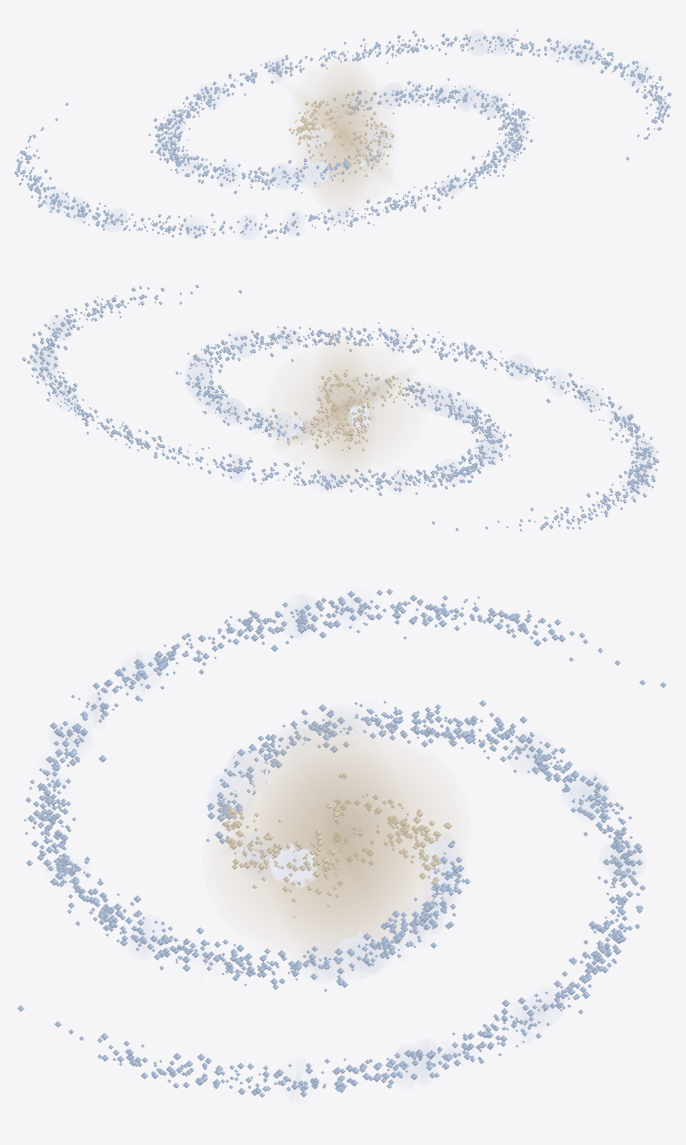
The picture shows the model from 3 angles, top to bottom: view 1: azimuth 30°, elevation 25°; view 2: azimuth 150°, elevation 25°; view 3: azimuth 270°, elevation 25°; orthographic projection. The views are drawn at different scales.
Size of the model in its own units: 7.27 by 1.78 by 3.94.
